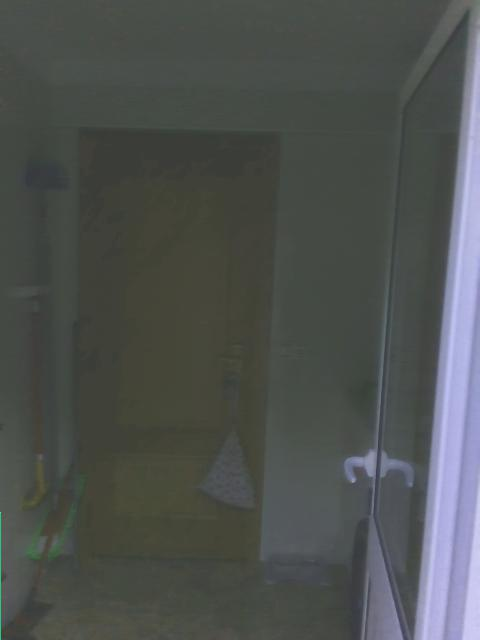open_door: (69, 121, 281, 567)
